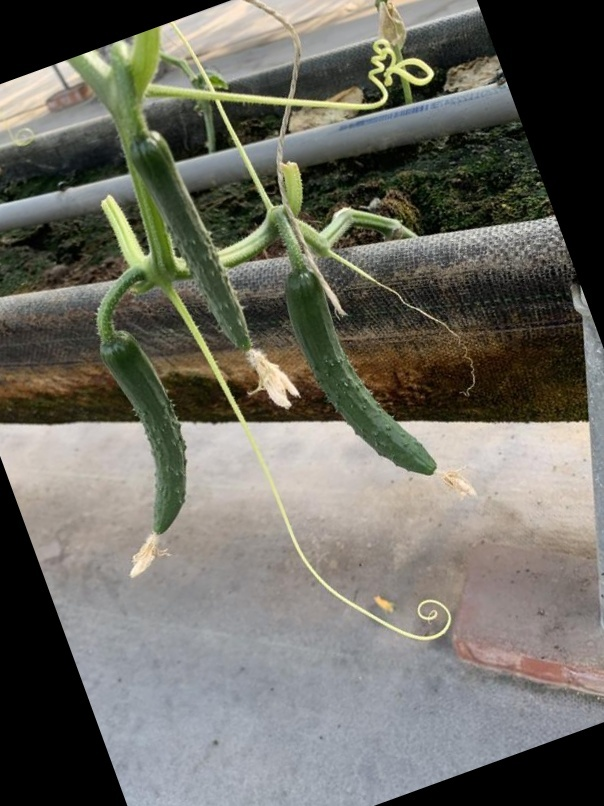growth: (280, 262, 445, 481), (127, 127, 259, 356), (99, 328, 198, 549)
mature: (280, 262, 443, 481)
